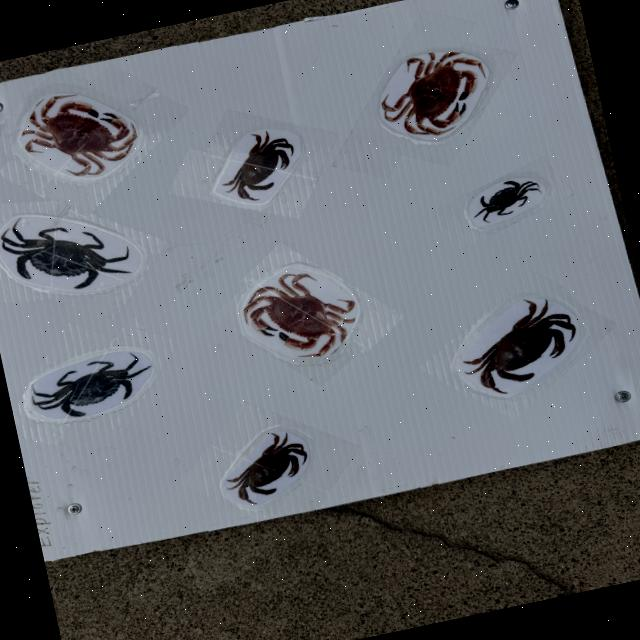green_crab: (1, 224, 129, 288), (32, 354, 149, 416), (476, 180, 540, 221)
jonah_crab: (21, 94, 138, 176), (243, 273, 355, 357), (381, 52, 484, 134)
rock_crab: (463, 300, 576, 393), (227, 432, 307, 504), (223, 131, 294, 200)
